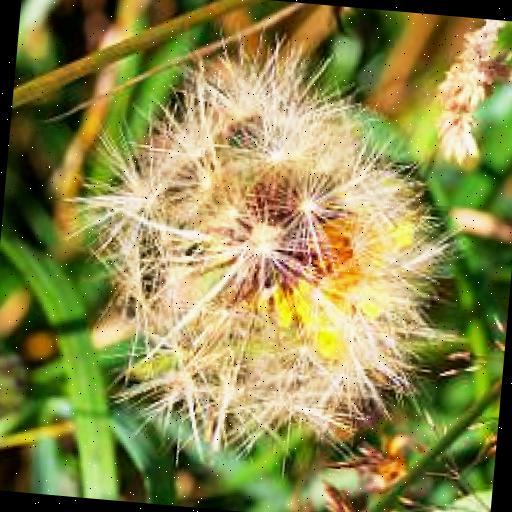dandelion: (52, 18, 466, 488)
